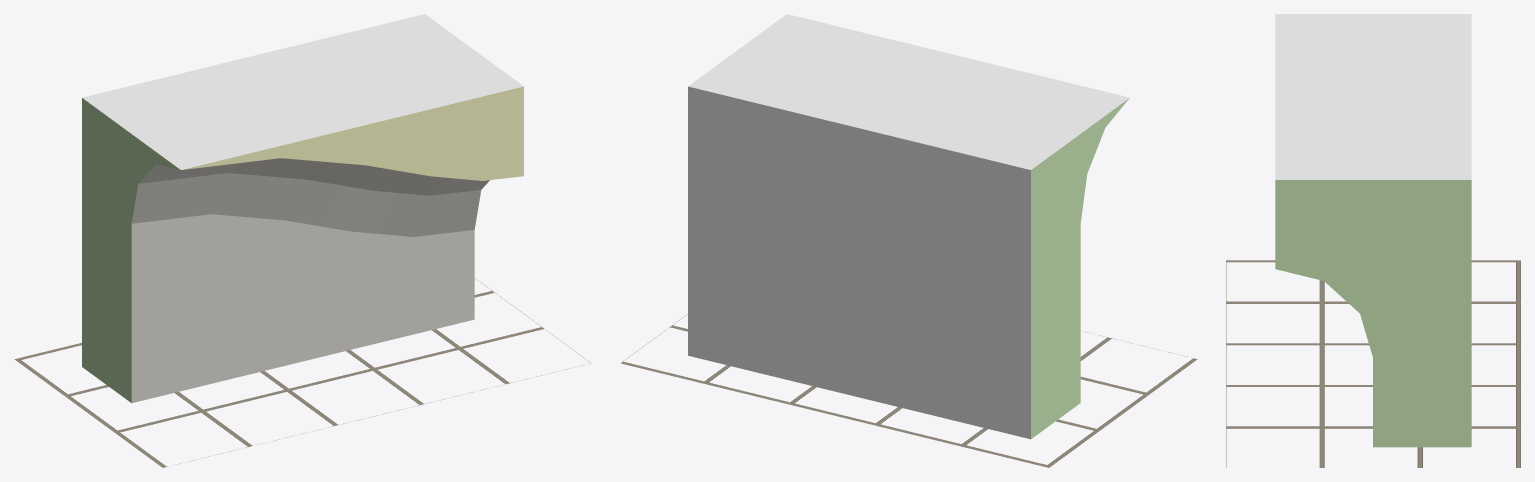
Rendered from Wall_Incline_2x4_Top.glb.
3 views of the same model, side by side, from view 1: azimuth 30°, elevation 25°; view 2: azimuth 150°, elevation 25°; view 3: azimuth 270°, elevation 25° (orthographic).
Parts seen in each view (by area): view 1: Wall_Incline_2x4_Top, Floor; view 2: Wall_Incline_2x4_Top, Floor; view 3: Wall_Incline_2x4_Top, Floor.
Boxes of the visible parts, x1,y1,x2,y2 form: Wall_Incline_2x4_Top: [82, 14, 523, 403]; Floor: [14, 278, 590, 467]; Wall_Incline_2x4_Top: [688, 14, 1129, 439]; Floor: [621, 314, 1197, 467]; Wall_Incline_2x4_Top: [1275, 14, 1471, 447]; Floor: [1226, 260, 1520, 467].
Size of the model in its own units: 500 by 300 by 300.
Materials: 6 (1 with a texture image).
